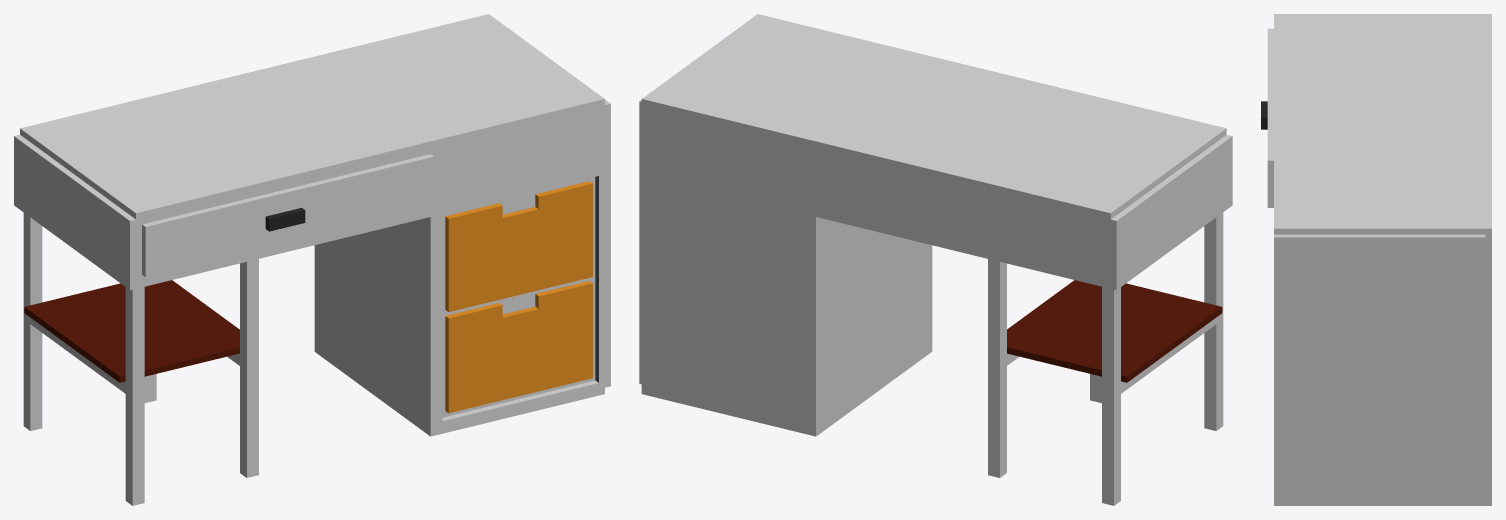
Rendered from Study room desk.fbx.
3 renders of one model, left to right at view 1: azimuth 30°, elevation 25°; view 2: azimuth 150°, elevation 25°; view 3: azimuth 270°, elevation 25°, orthographic. The views are drawn at different scales.
Parts seen in each view (by area): view 1: study desk; view 2: study desk; view 3: study desk.
Part boxes in pixels (bbox=[...]): study desk: bbox=[14, 14, 610, 505]; study desk: bbox=[639, 14, 1232, 505]; study desk: bbox=[1261, 14, 1491, 505].
Bounding box in the file's own units: 1.29 × 0.7574 × 0.5719.
